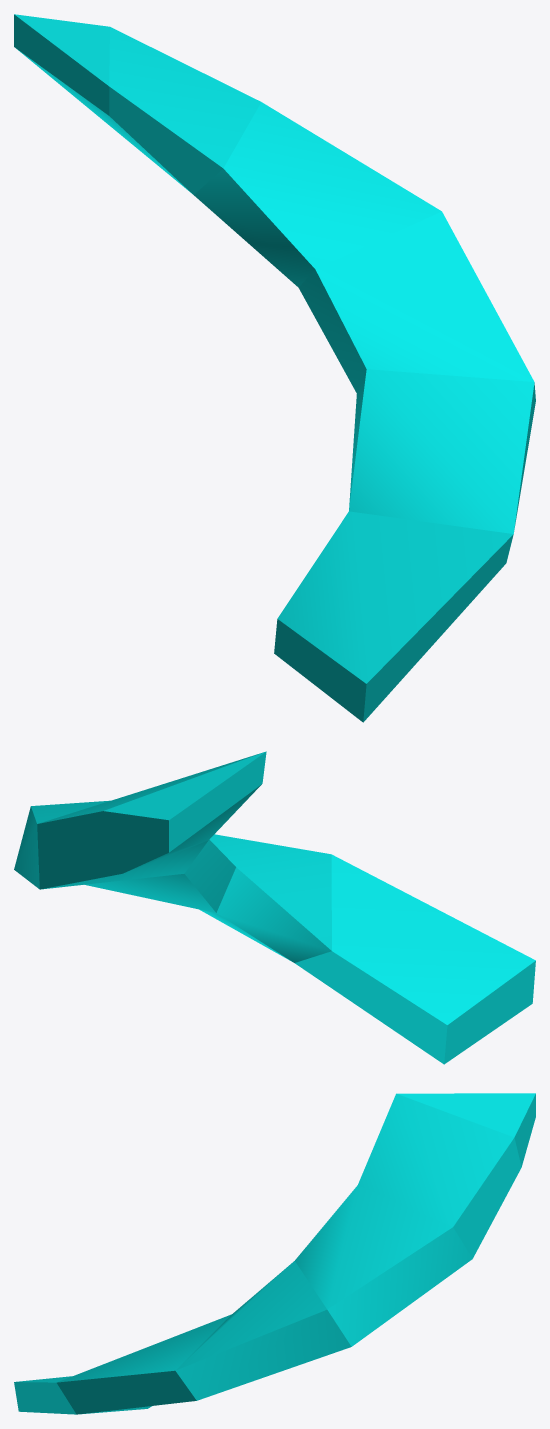
File: SM_Bld_Stairs_Curve_01_Collision.fbx
3 views of the same model, one above another, from view 1: azimuth 30°, elevation 25°; view 2: azimuth 150°, elevation 25°; view 3: azimuth 270°, elevation 25° (orthographic). The views are drawn at different scales.
Parts seen in each view (by area): view 1: SM_Bld_Stairs_Curve_01_Collision; view 2: SM_Bld_Stairs_Curve_01_Collision; view 3: SM_Bld_Stairs_Curve_01_Collision.
Part boxes in pixels (x1,y1,x2,y2): SM_Bld_Stairs_Curve_01_Collision: (14, 14, 535, 722); SM_Bld_Stairs_Curve_01_Collision: (14, 751, 535, 1064); SM_Bld_Stairs_Curve_01_Collision: (14, 1093, 535, 1414).
Size of the model in its own units: 230 by 331 by 487.
